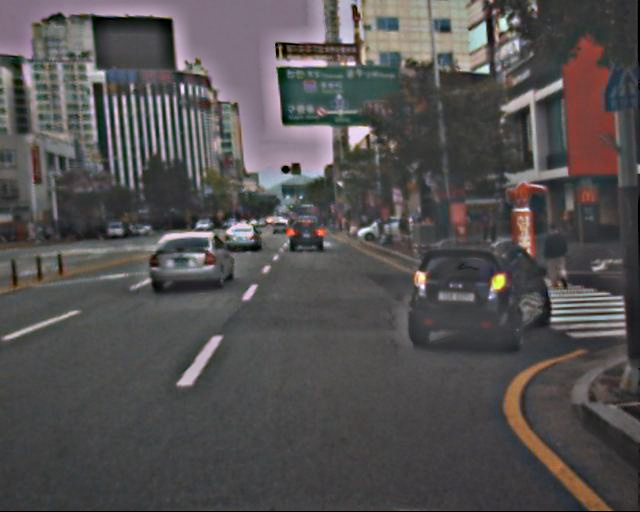person: (542, 223, 570, 292), (398, 214, 412, 247), (483, 216, 498, 245)
